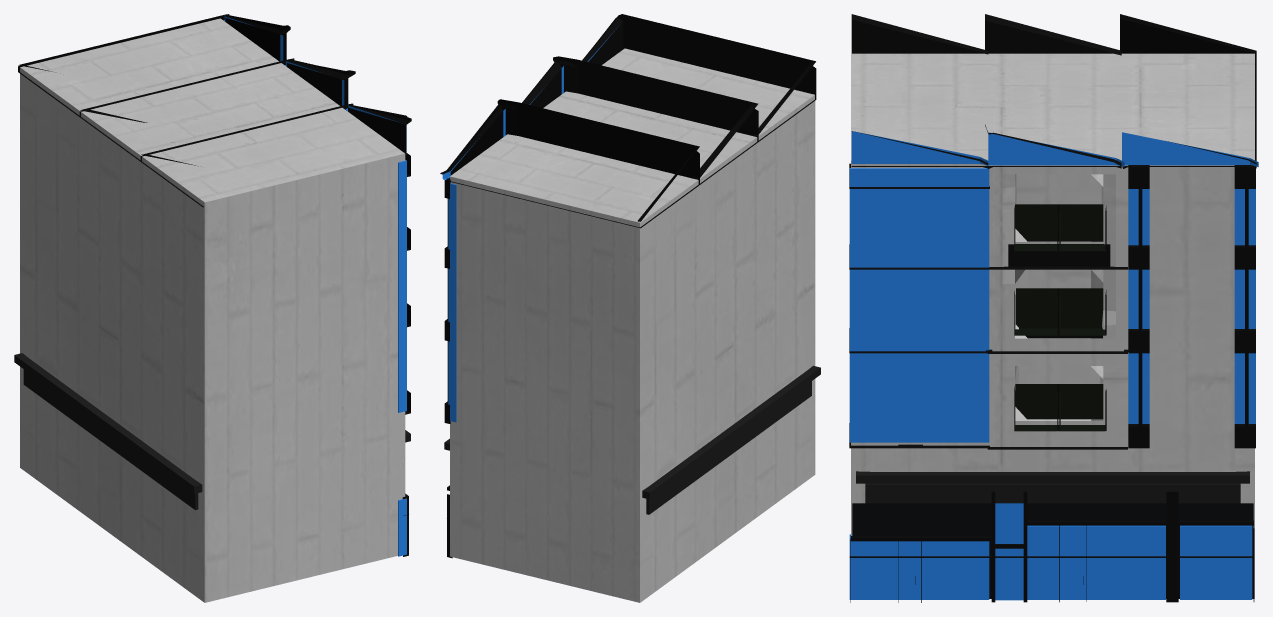
File: Building 4.obj
The picture shows the model from 3 angles, left to right: view 1: azimuth 30°, elevation 25°; view 2: azimuth 150°, elevation 25°; view 3: azimuth 270°, elevation 25°; orthographic projection. The views are drawn at different scales.
Parts seen in each view (by area): view 1: Cube.038; view 2: Cube.038; view 3: Cube.038.
Part boxes in pixels (x1,y1,x2,y2): Cube.038: [14, 14, 411, 602]; Cube.038: [440, 14, 820, 602]; Cube.038: [849, 14, 1258, 602].
Size of the model in its own units: 5.31 by 10.03 by 7.76.
